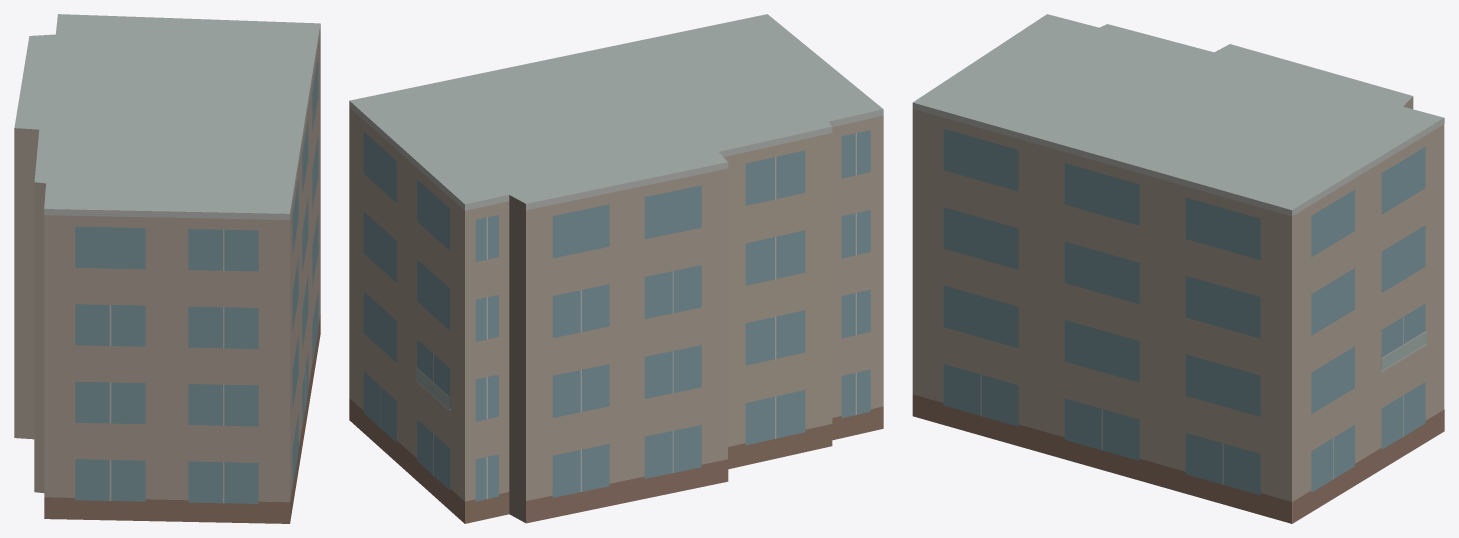
File: survey-upis-32485213.glb
3 views of the same model, side by side, from view 1: azimuth 30°, elevation 25°; view 2: azimuth 150°, elevation 25°; view 3: azimuth 270°, elevation 25° (orthographic). The views are drawn at different scales.
Visible parts, largest first — view 1: survey-upis-32485213.tmp; view 2: survey-upis-32485213.tmp; view 3: survey-upis-32485213.tmp.
Part boxes in pixels (box(x1,y1,x2,y2)): survey-upis-32485213.tmp: box(14, 14, 320, 523); survey-upis-32485213.tmp: box(349, 14, 883, 523); survey-upis-32485213.tmp: box(912, 14, 1444, 523).
Size of the model in its own units: 16.38 by 12.2 by 18.76.
